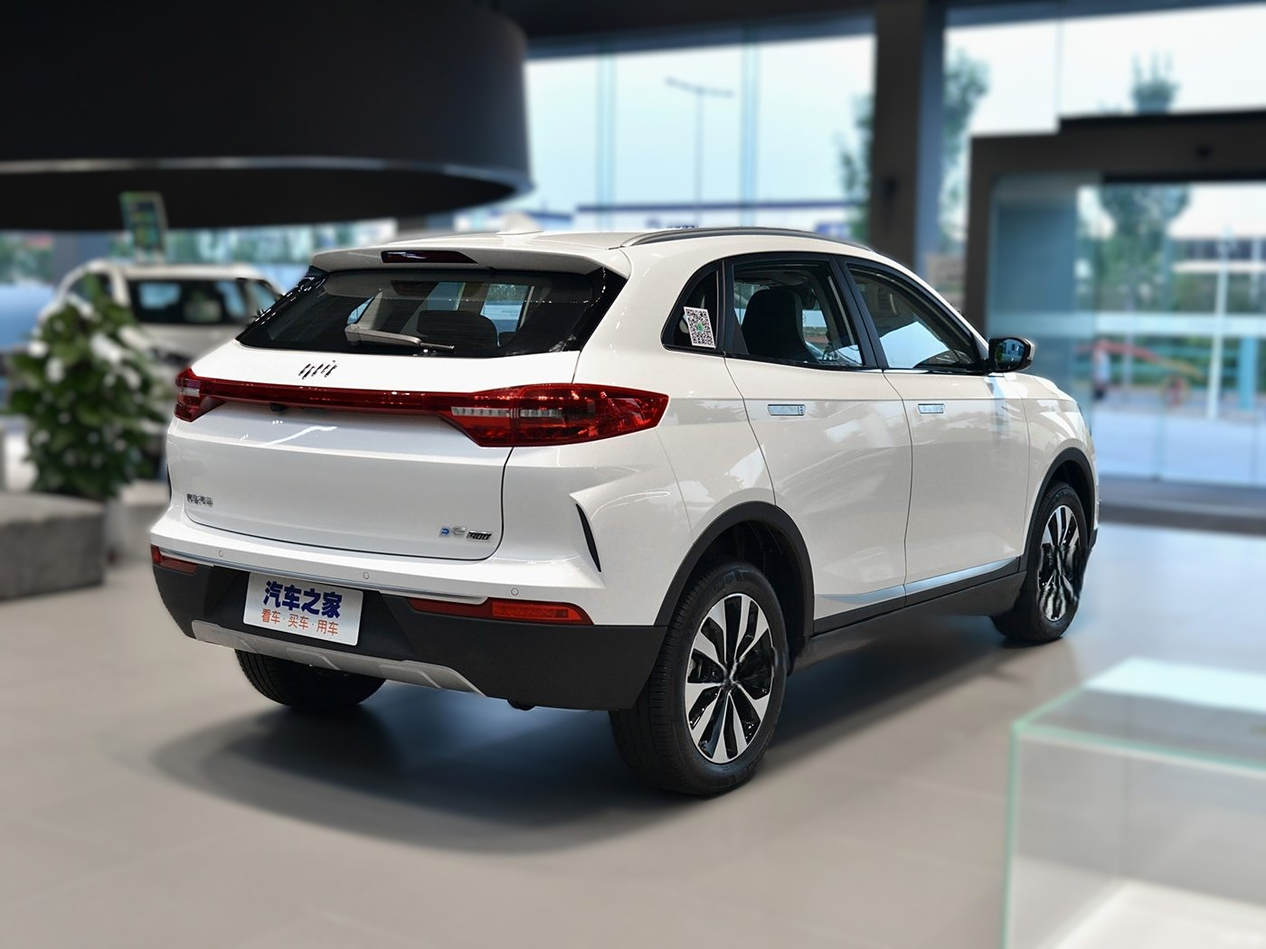WELTMEISTER: (298, 364, 336, 380)
